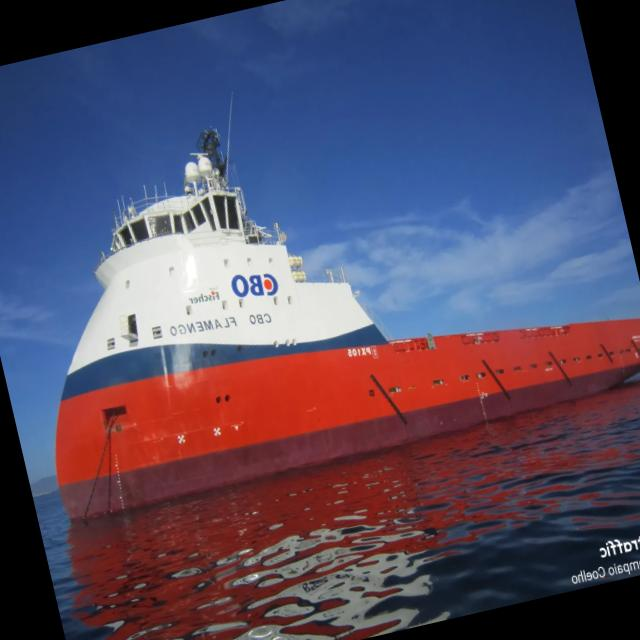Offshore: (55, 130, 640, 519)
